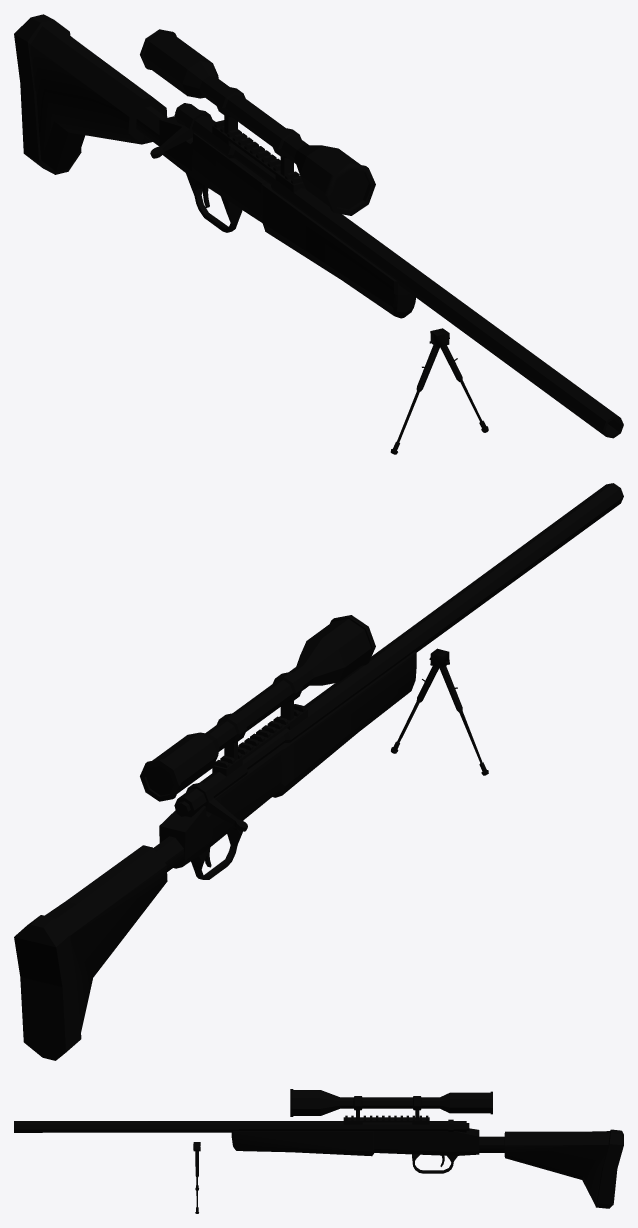
3 views of the same model, one above another, from view 1: azimuth 30°, elevation 25°; view 2: azimuth 150°, elevation 25°; view 3: azimuth 270°, elevation 25° (orthographic). The views are drawn at different scales.
Parts seen in each view (by area): view 1: sr1; view 2: sr1; view 3: sr1.
Part boxes in pixels (x1,y1,x2,y2): sr1: [14, 14, 623, 454]; sr1: [14, 483, 623, 1060]; sr1: [14, 1089, 623, 1213].
Bounding box in the file's own units: 0.1117 × 0.2447 × 1.15.
1 material, 1 textured.
